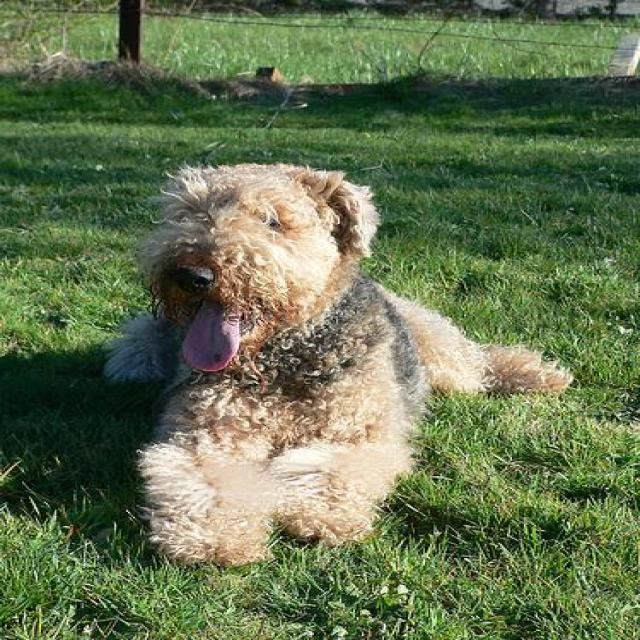airedale: (95, 155, 577, 571)
